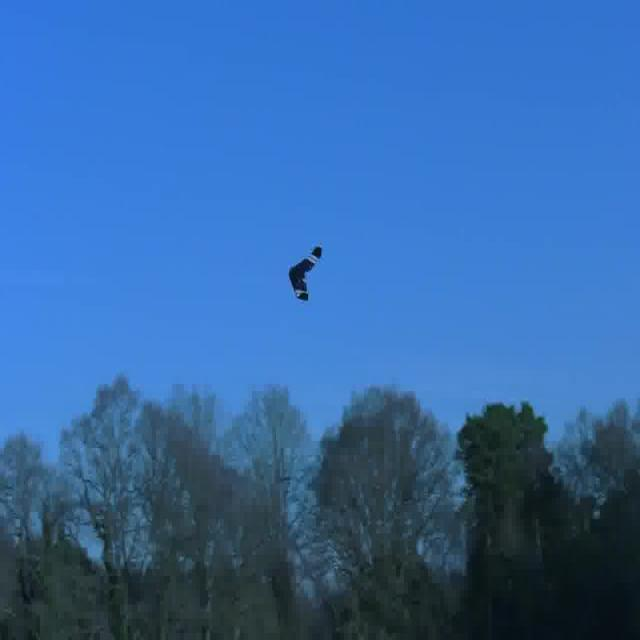iha: (280, 268, 334, 288)
